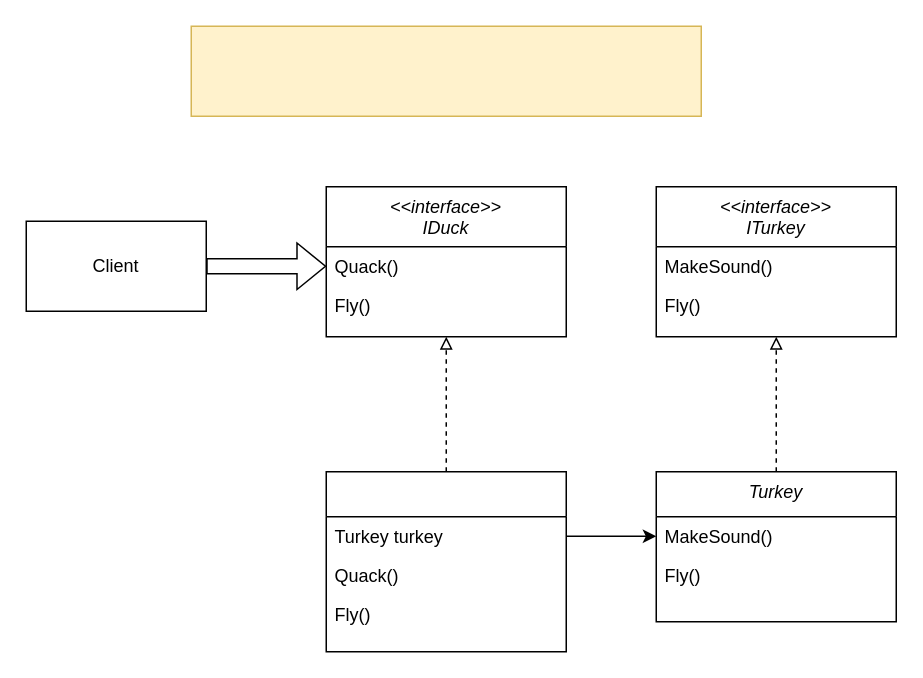
This 923x678 diagram has some shape labels left out. Here are the shapes that lost their labels. From the top down, the box of each, then its label:
(190, 25, 701, 116): The Adapter Pattern
(325, 470, 566, 652): TurkeyDuckAdapter
